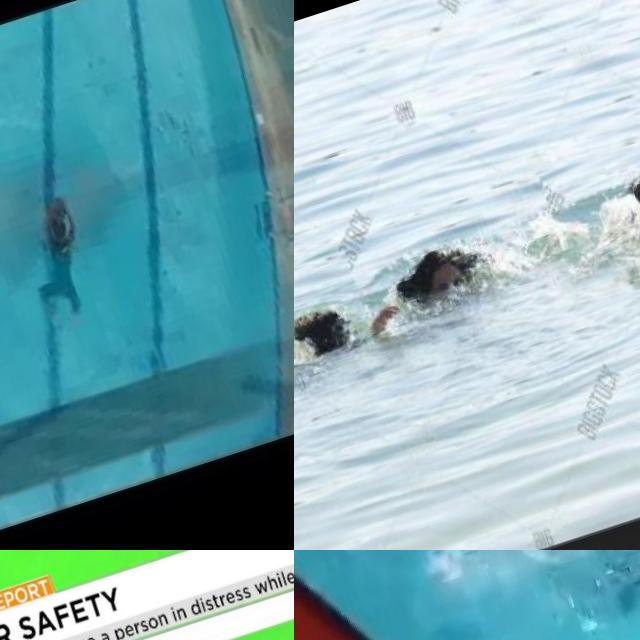drowning: (353, 168, 547, 338), (537, 123, 640, 288), (294, 249, 378, 384), (459, 550, 640, 597)
swimming: (11, 188, 128, 336)
